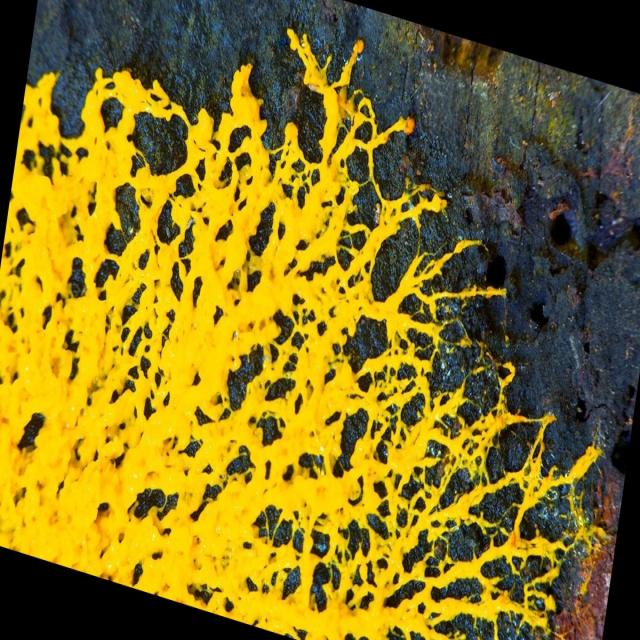Dog_vomit_slime_mold: (2, 22, 613, 637)
